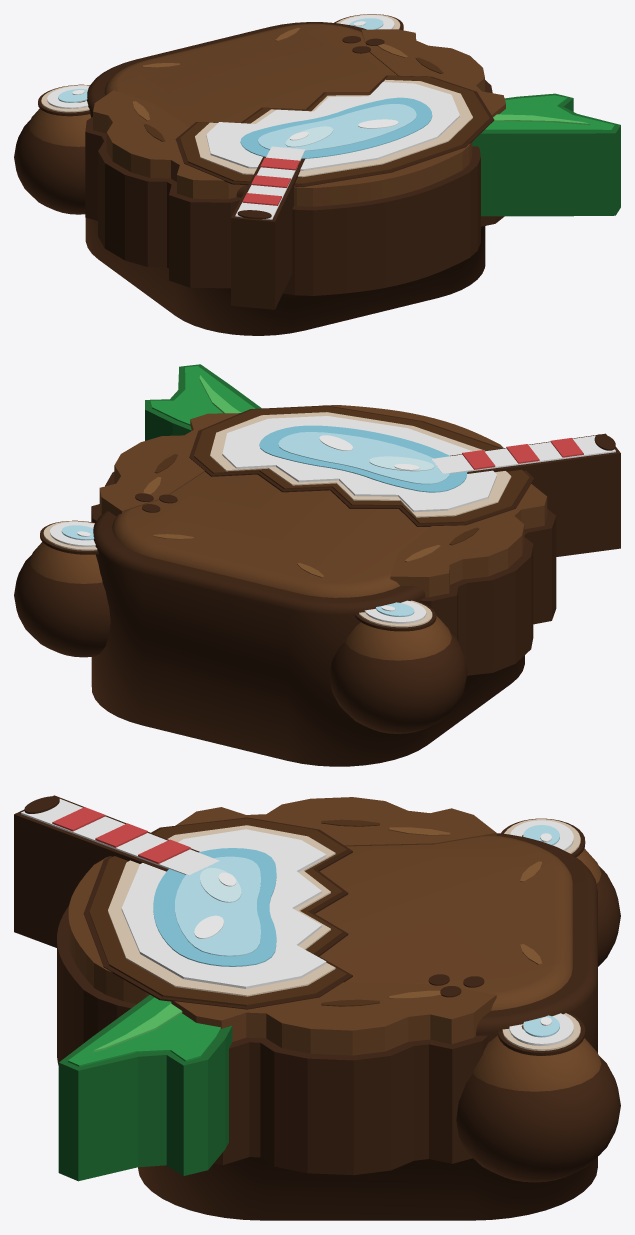
The model's file is body_coco.fbx.
3 renders of one model, top to bottom at view 1: azimuth 30°, elevation 25°; view 2: azimuth 150°, elevation 25°; view 3: azimuth 270°, elevation 25°, orthographic. The views are drawn at different scales.
Visible parts, largest first — view 1: body_coco_corpo, body_coco_mao_esq, body_coco_mao; view 2: body_coco_corpo, body_coco_mao_esq, body_coco_mao; view 3: body_coco_corpo, body_coco_mao, body_coco_mao_esq.
Part boxes in pixels (box(x1,y1,x2,y2)): body_coco_corpo: box(85, 22, 620, 335); body_coco_mao_esq: box(14, 84, 91, 214); body_coco_mao: box(334, 14, 403, 30); body_coco_corpo: box(91, 364, 620, 766); body_coco_mao_esq: box(329, 600, 467, 733); body_coco_mao: box(14, 520, 110, 657); body_coco_corpo: box(14, 795, 597, 1220); body_coco_mao: box(456, 1013, 620, 1182); body_coco_mao_esq: box(500, 818, 620, 966).
Size of the model in its own units: 5.76 by 2.1 by 5.28.
Materials: 1 (1 with a texture image).
